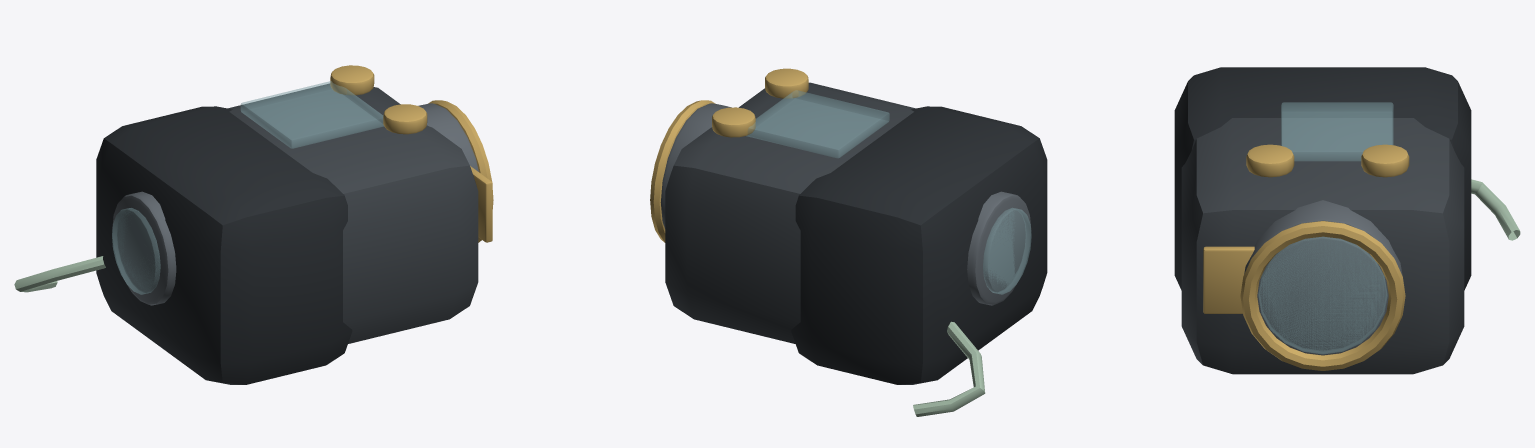
The model's file is checkout_product_rangefinder.glb.
3 views of the same model, side by side, from view 1: azimuth 30°, elevation 25°; view 2: azimuth 150°, elevation 25°; view 3: azimuth 270°, elevation 25° (orthographic). The views are drawn at different scales.
Parts seen in each view (by area): view 1: RangefinderGrip, RangefinderBody, RangefinderTopScreen, RangefinderEyepieceBarrel, RangefinderEyepieceGlass, RangefinderLanyard, RangefinderObjectiveBarrel, RangefinderButton_2, RangefinderButton_1, RangefinderObjectiveBezel, RangefinderSideCrest; view 2: RangefinderGrip, RangefinderBody, RangefinderTopScreen, RangefinderEyepieceBarrel, RangefinderEyepieceGlass, RangefinderLanyard, RangefinderObjectiveBezel, RangefinderObjectiveBarrel, RangefinderButton_2, RangefinderButton_1; view 3: RangefinderBody, RangefinderGrip, RangefinderObjectiveBarrel, RangefinderObjectiveGlass, RangefinderObjectiveBezel, RangefinderTopScreen, RangefinderSideCrest, RangefinderButton_2, RangefinderButton_1, RangefinderLanyard.
Part boxes in pixels (bbox=[...]): RangefinderGrip: bbox=[96, 106, 352, 384]; RangefinderBody: bbox=[228, 83, 478, 343]; RangefinderTopScreen: bbox=[240, 81, 383, 148]; RangefinderEyepieceBarrel: bbox=[112, 191, 176, 305]; RangefinderEyepieceGlass: bbox=[112, 208, 160, 294]; RangefinderLanyard: bbox=[14, 256, 105, 292]; RangefinderObjectiveBarrel: bbox=[418, 103, 478, 171]; RangefinderButton_2: bbox=[330, 65, 374, 95]; RangefinderButton_1: bbox=[383, 104, 427, 134]; RangefinderObjectiveBezel: bbox=[428, 100, 493, 242]; RangefinderSideCrest: bbox=[470, 166, 492, 242]; RangefinderGrip: bbox=[791, 106, 1047, 384]; RangefinderBody: bbox=[665, 82, 915, 343]; RangefinderTopScreen: bbox=[746, 90, 889, 158]; RangefinderEyepieceBarrel: bbox=[967, 191, 1031, 305]; RangefinderEyepieceGlass: bbox=[983, 208, 1031, 294]; RangefinderLanyard: bbox=[913, 321, 985, 416]; RangefinderObjectiveBezel: bbox=[650, 100, 715, 242]; RangefinderObjectiveBarrel: bbox=[660, 103, 731, 228]; RangefinderButton_2: bbox=[712, 107, 755, 137]; RangefinderButton_1: bbox=[765, 68, 808, 98]; RangefinderBody: bbox=[1181, 118, 1464, 374]; RangefinderGrip: bbox=[1174, 67, 1471, 290]; RangefinderObjectiveBarrel: bbox=[1244, 200, 1404, 355]; RangefinderObjectiveGlass: bbox=[1258, 237, 1387, 354]; RangefinderObjectiveBezel: bbox=[1240, 221, 1405, 370]; RangefinderTopScreen: bbox=[1281, 102, 1393, 161]; RangefinderSideCrest: bbox=[1203, 246, 1254, 313]; RangefinderButton_2: bbox=[1361, 144, 1409, 177]; RangefinderButton_1: bbox=[1246, 144, 1294, 177]; RangefinderLanyard: bbox=[1471, 179, 1520, 240].
Size of the model in its own units: 0.2028 by 0.1065 by 0.1575.
